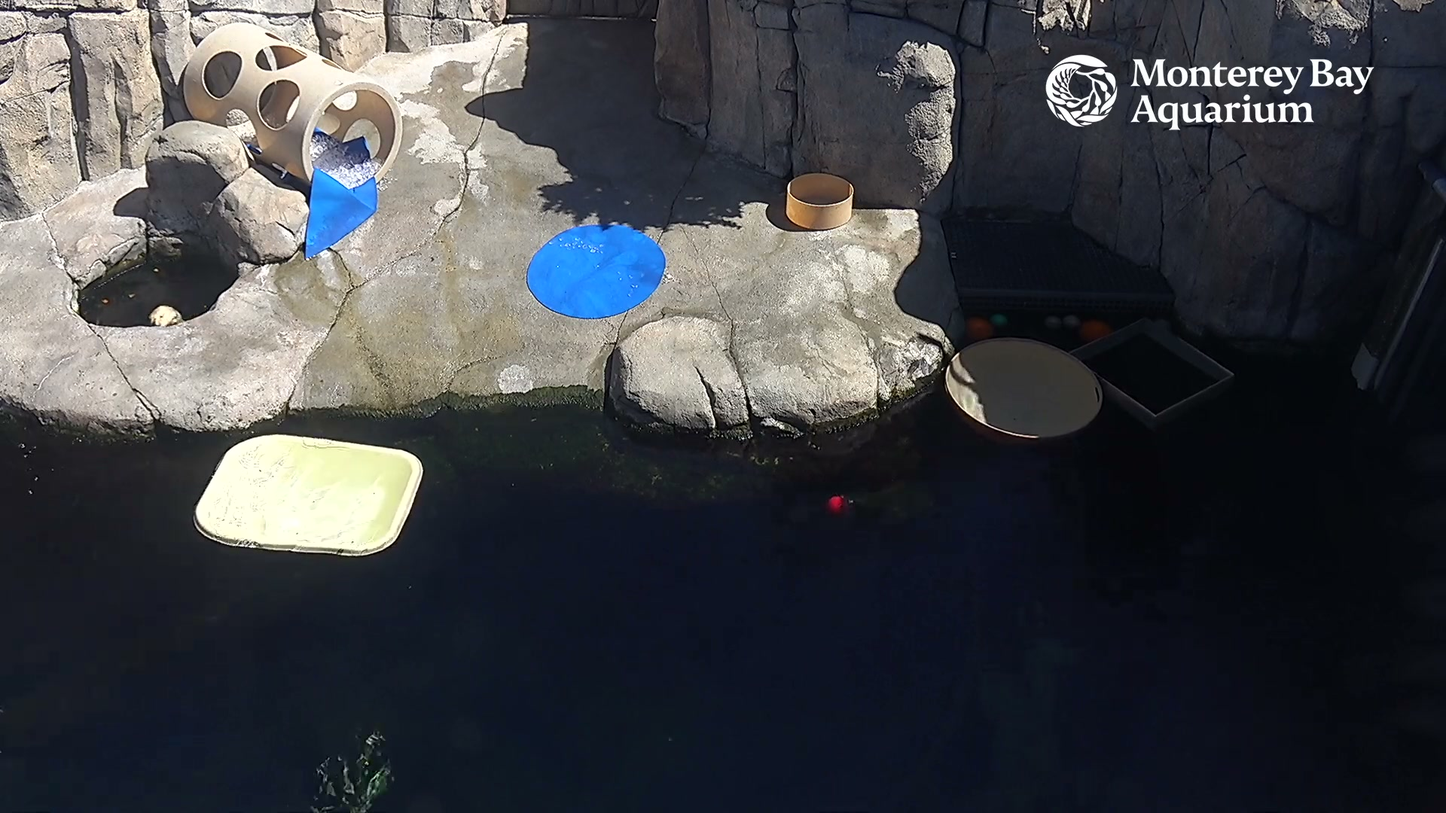Southern Sea Otter: (127, 290, 193, 334)
